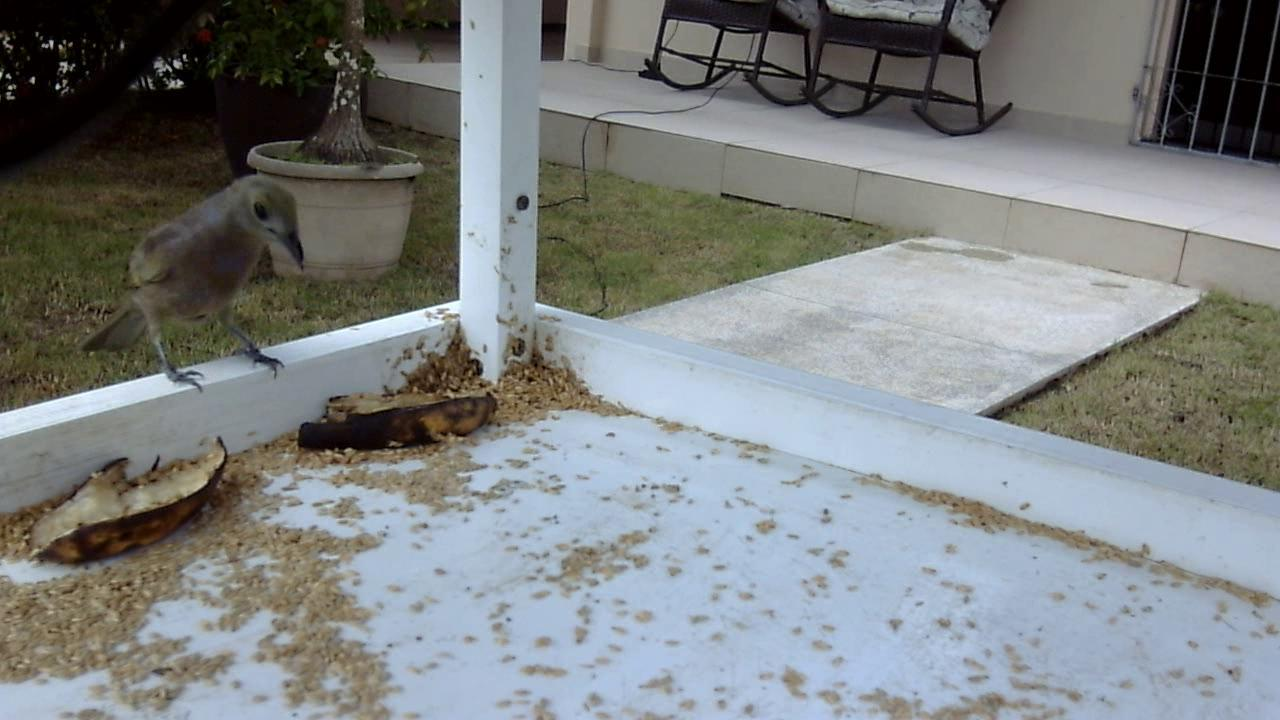sanhaco_do_coqueiro: (75, 170, 308, 409)
